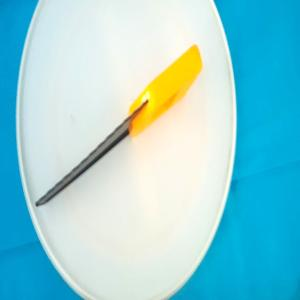serrote: (35, 43, 203, 208)
